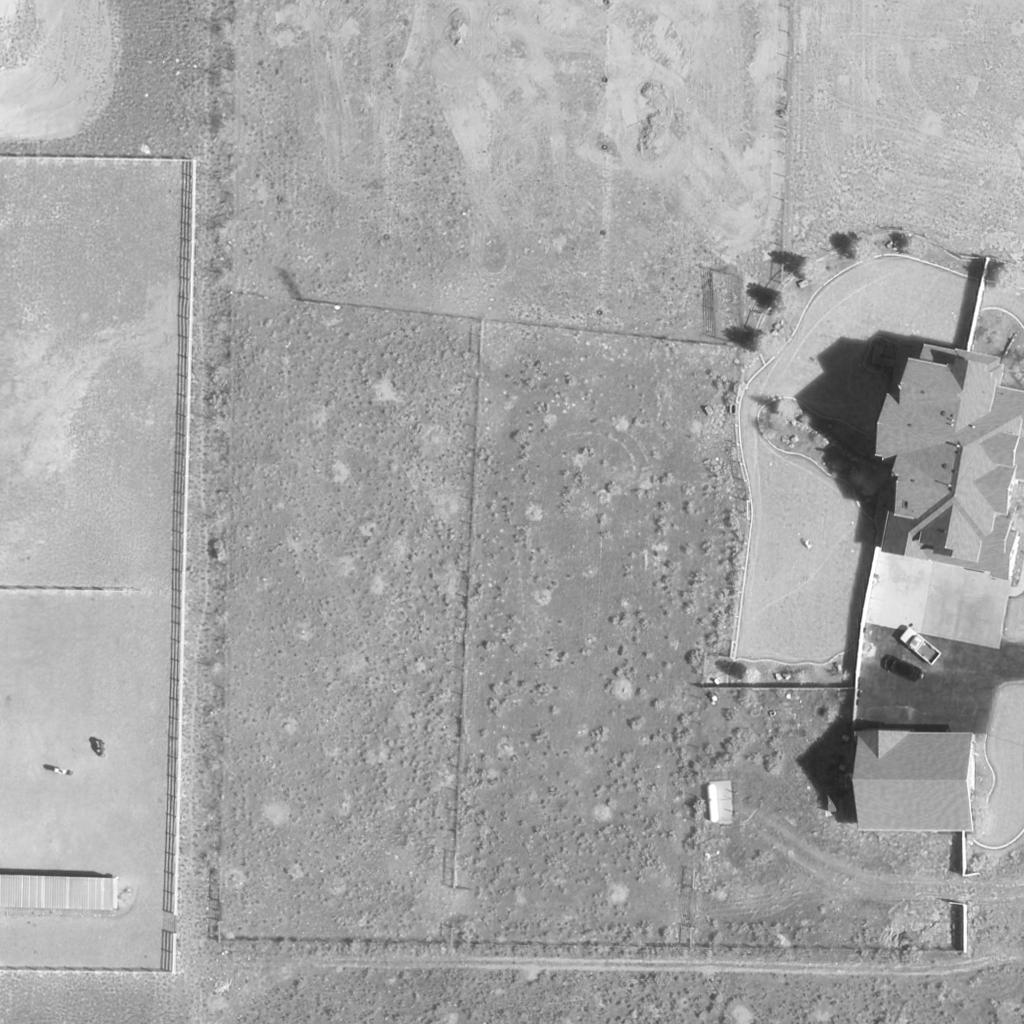vehicle: (899, 626, 941, 668), (882, 654, 922, 684)
